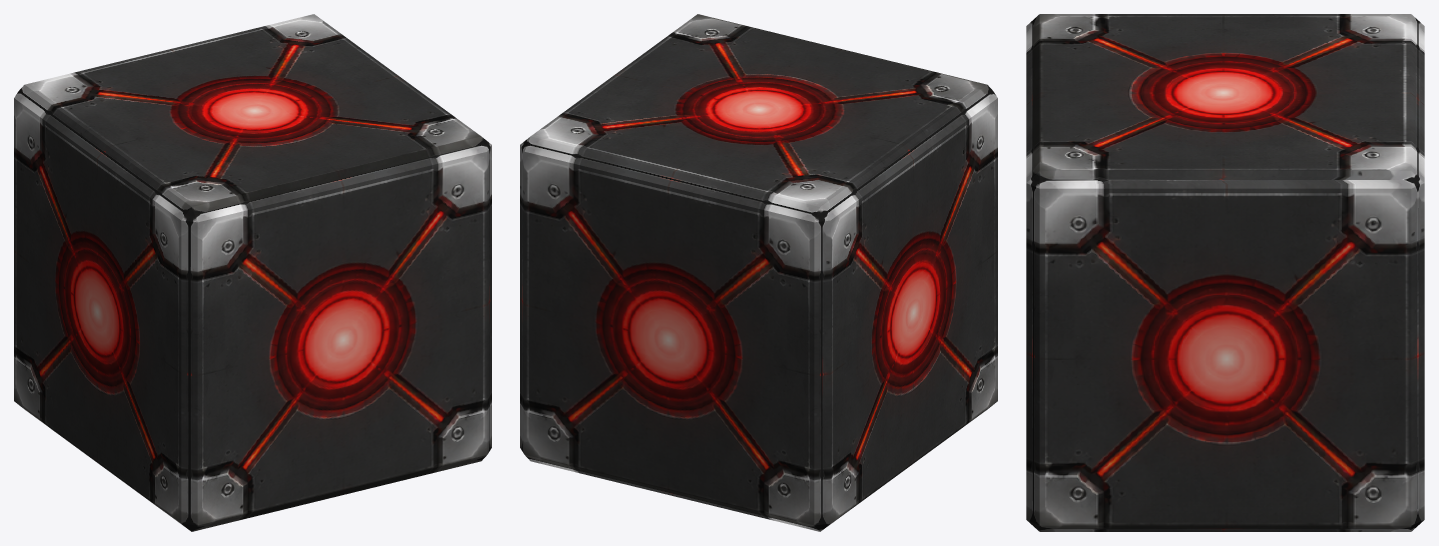
Rendered from Player.gltf.
3 views of the same model, side by side, from view 1: azimuth 30°, elevation 25°; view 2: azimuth 150°, elevation 25°; view 3: azimuth 270°, elevation 25° (orthographic). The views are drawn at different scales.
Visible parts, largest first — view 1: 立方体; view 2: 立方体; view 3: 立方体.
Part boxes in pixels (x1,y1,x2,y2): 立方体: (14, 14, 491, 531); 立方体: (520, 14, 997, 531); 立方体: (1026, 14, 1424, 531).
Size of the model in its own units: 1 by 1 by 1.
Materials: 1 (1 with a texture image).
